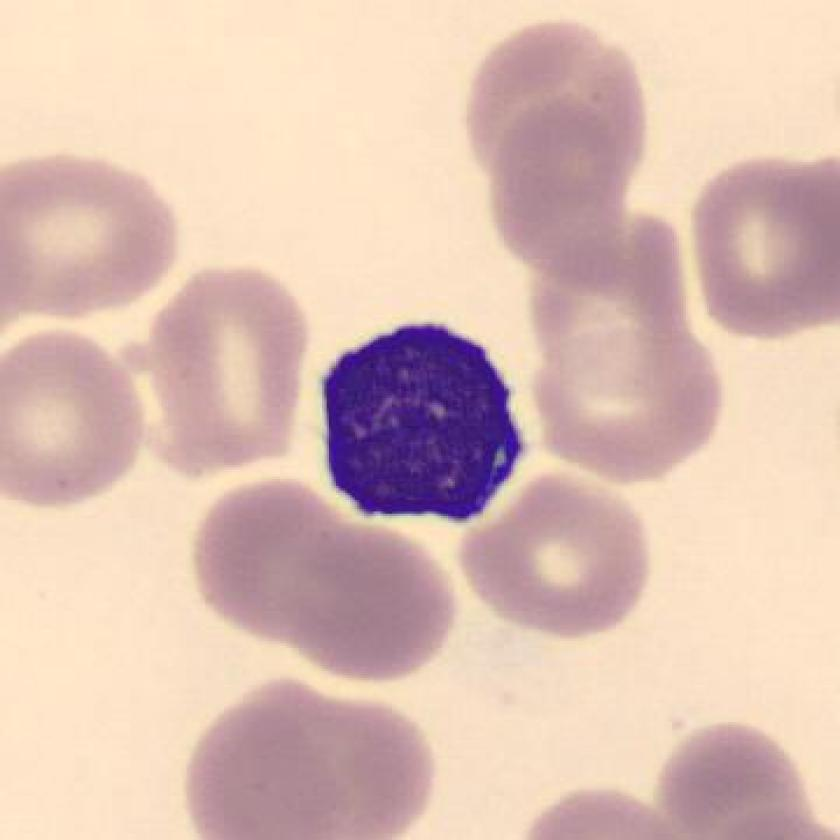lymphocyte: (300, 304, 540, 545)
